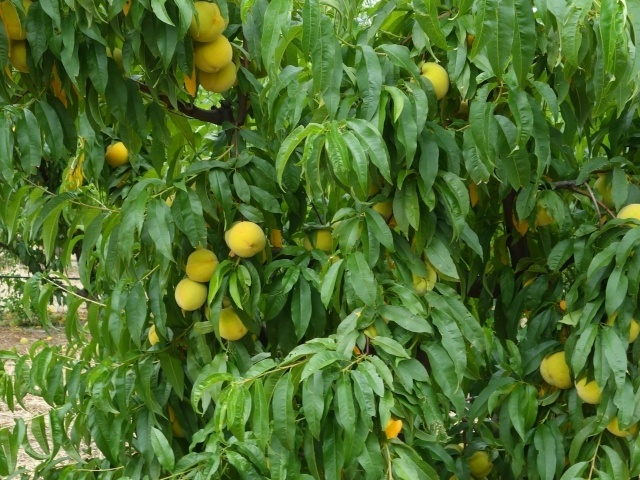peach: (191, 31, 236, 79), (182, 2, 232, 45), (224, 217, 270, 262), (199, 55, 244, 99), (408, 57, 452, 102), (534, 346, 578, 391), (213, 298, 256, 344), (567, 362, 609, 408), (1, 34, 43, 80), (183, 241, 224, 285), (1, 1, 44, 41), (172, 273, 212, 313), (407, 255, 441, 302), (585, 166, 619, 210), (301, 221, 338, 259), (599, 407, 638, 441), (102, 137, 134, 174), (461, 444, 495, 478), (143, 321, 169, 352), (614, 201, 640, 229)
